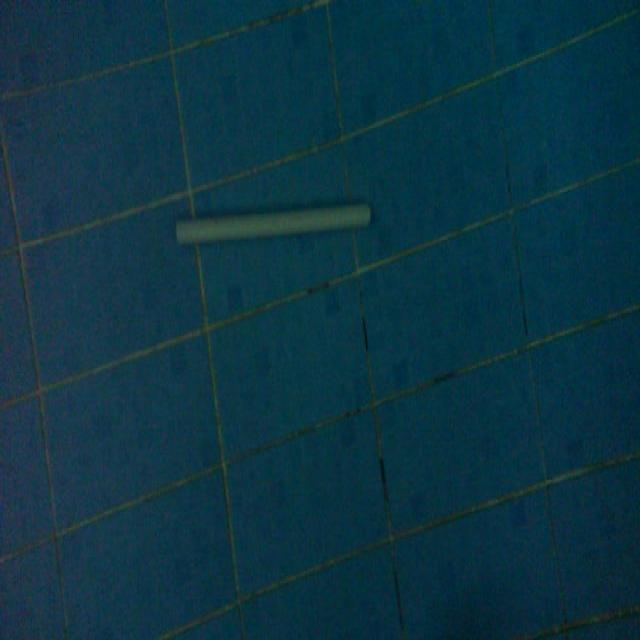Cube: (173, 196, 373, 247)
